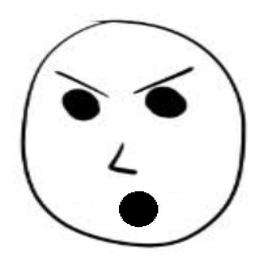eye: (139, 82, 194, 128), (60, 84, 104, 126)
frowning_eyebrow: (49, 61, 108, 98), (135, 63, 193, 95)
open_mouth: (115, 189, 165, 235)
pointy_nose: (101, 136, 142, 178)
